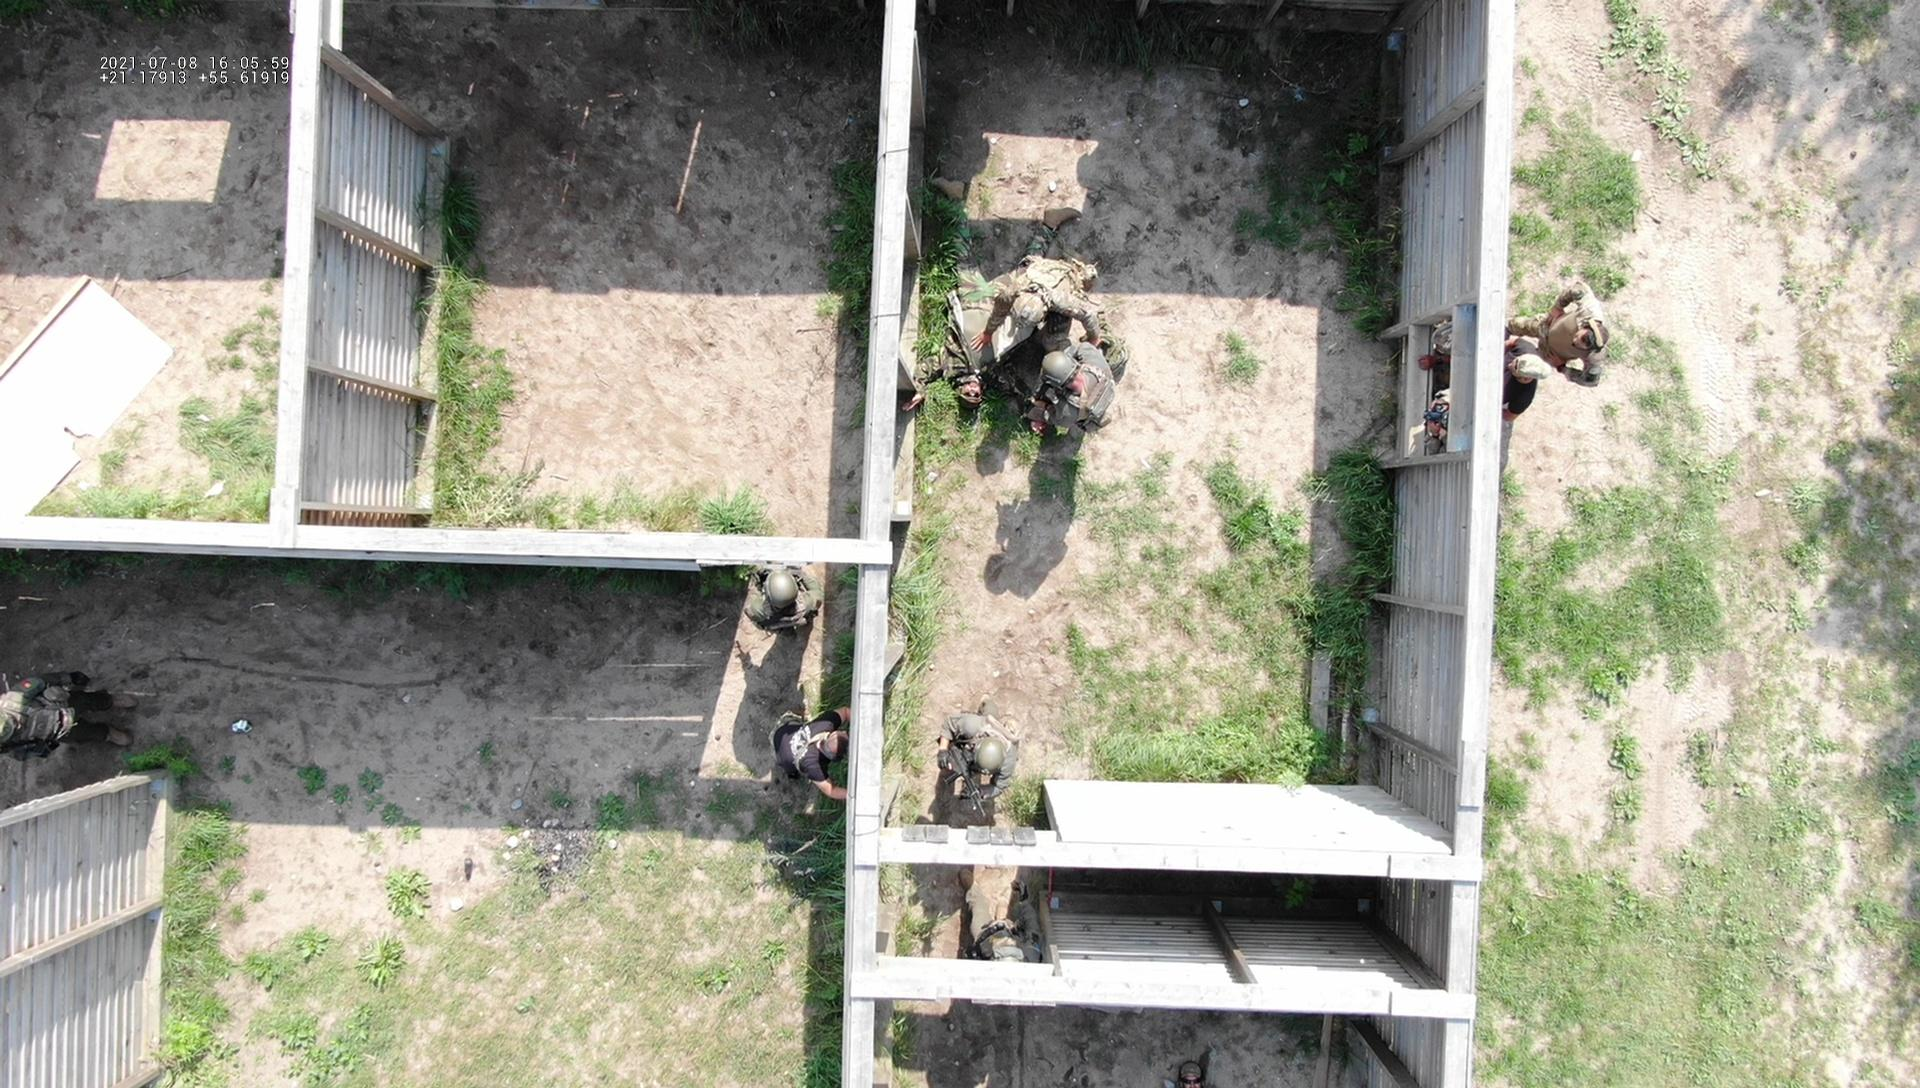Soldier: (903, 187, 1025, 406), (1006, 243, 1113, 359), (0, 666, 124, 765), (928, 706, 1029, 822), (742, 557, 849, 648), (1029, 340, 1120, 439), (1531, 294, 1615, 390)
